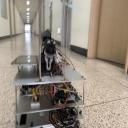cart: (11, 61, 87, 128)
